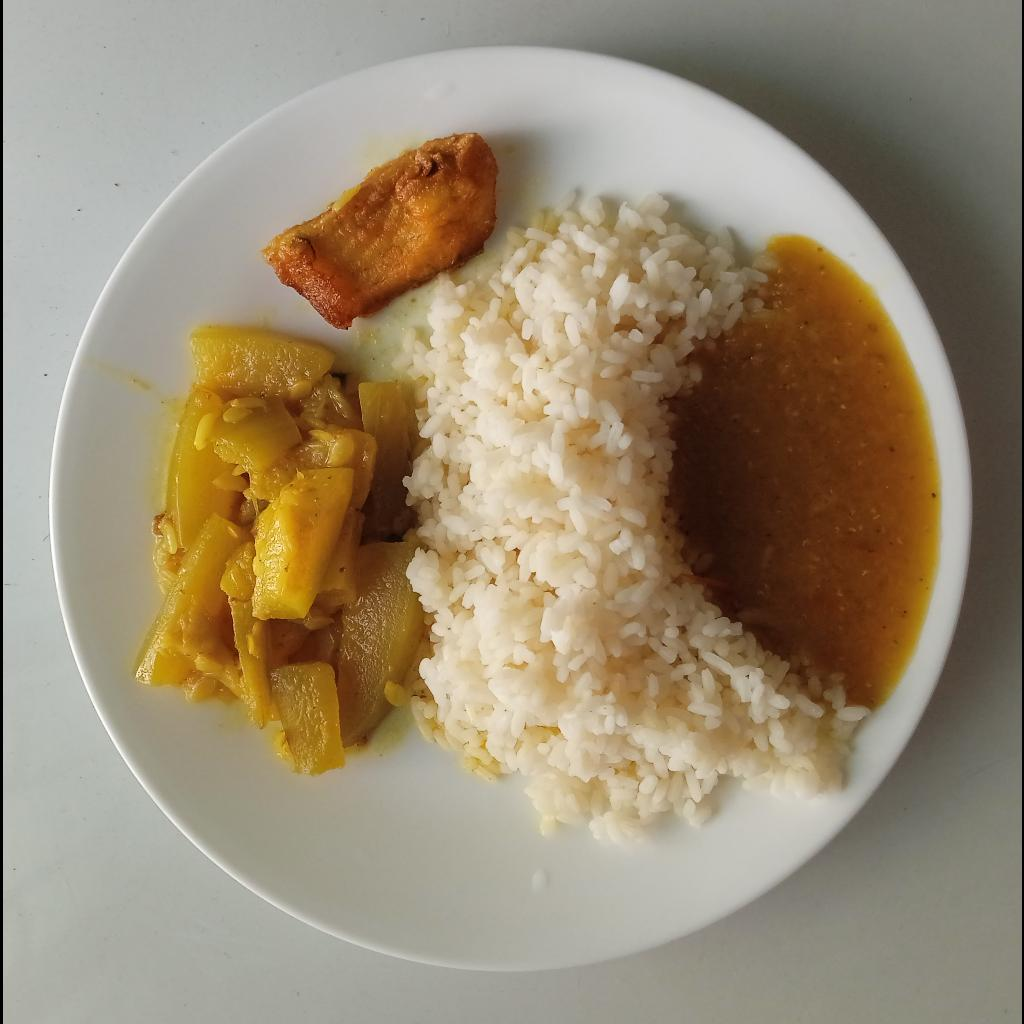daal: (677, 248, 935, 710)
fish: (258, 131, 504, 333)
potol: (133, 318, 420, 773)
rice: (388, 189, 863, 840)
